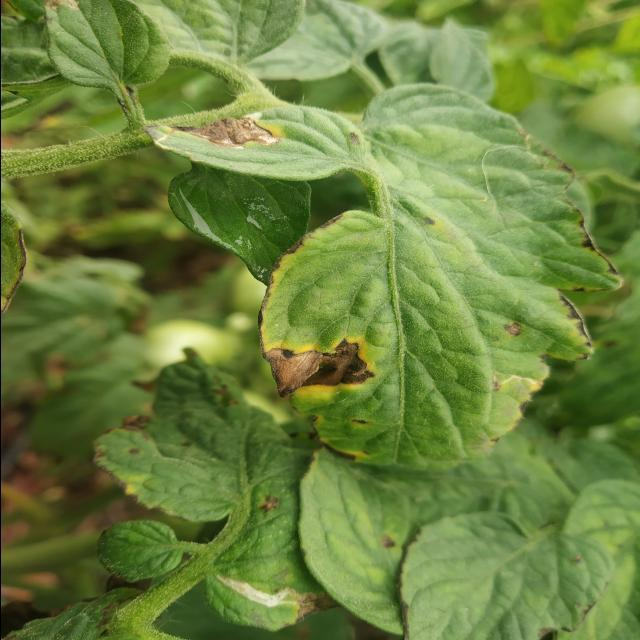Tomato mosaic virus leaf: (254, 205, 624, 472), (138, 102, 369, 184)
